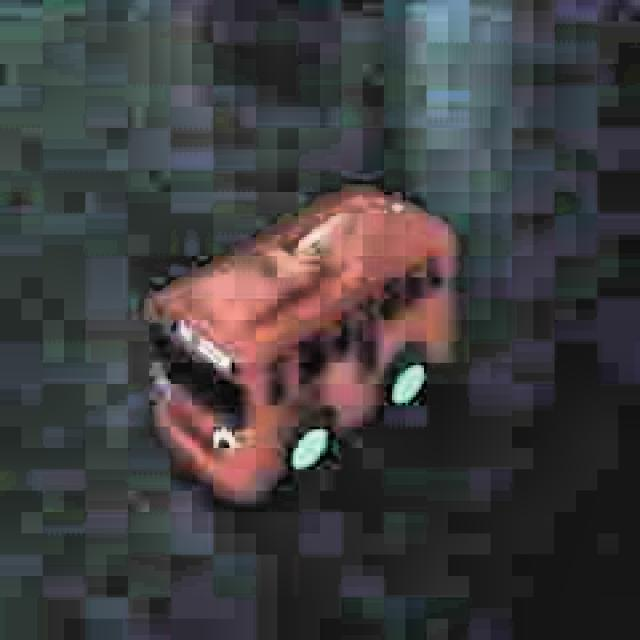bus: (133, 171, 473, 515)
